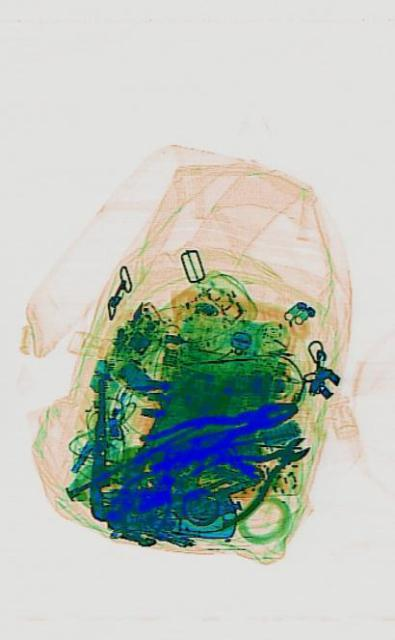Pliers: (188, 406, 315, 536), (137, 384, 298, 476)
